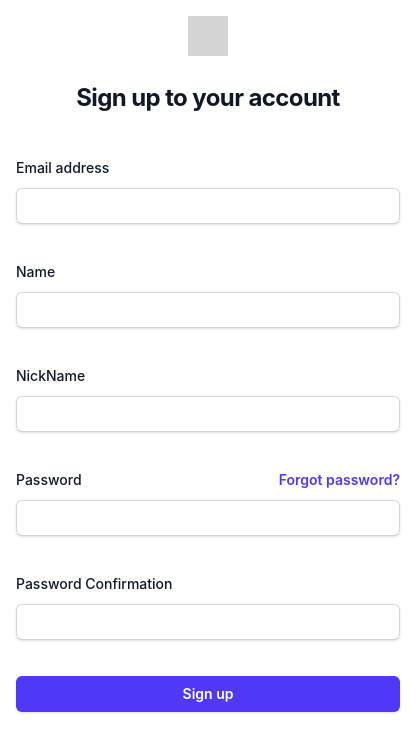
Test: 회원가입 테스트 › 닉네임 형식을 확인한다 › 닉네임이 2자 미만이면 에러메세지가 표시된다
# 닉네임이 2자 미만
Type "s" into the field labelled "NickName". click: (208, 414)
box: [16, 396, 400, 432]
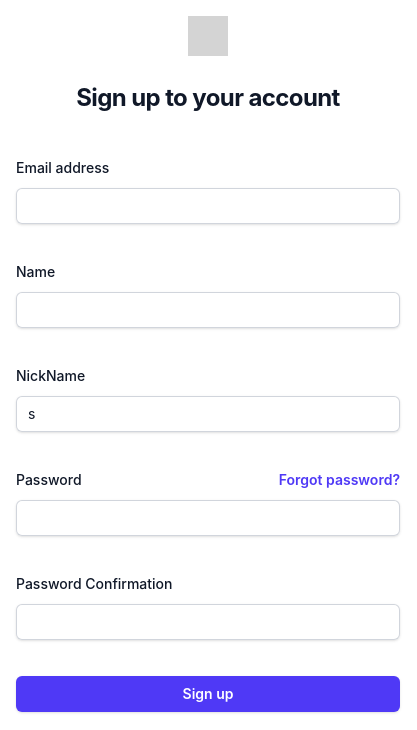
Submit the form from the button with test id "submit-button", box [16, 676, 400, 712]
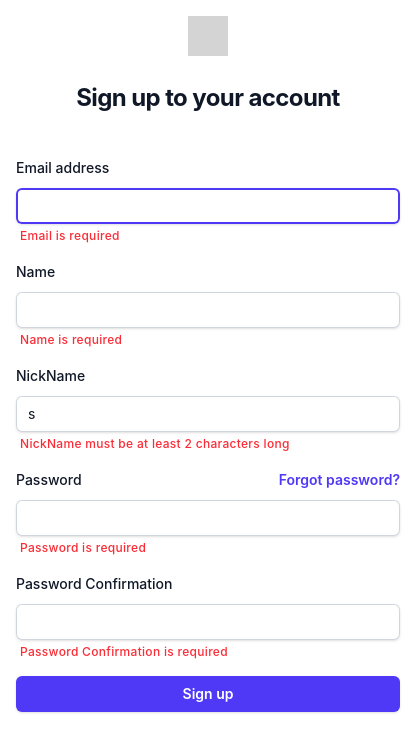
Expected: the text "NickName must be at least 2 characters long" is shown, [20, 436, 290, 451]
